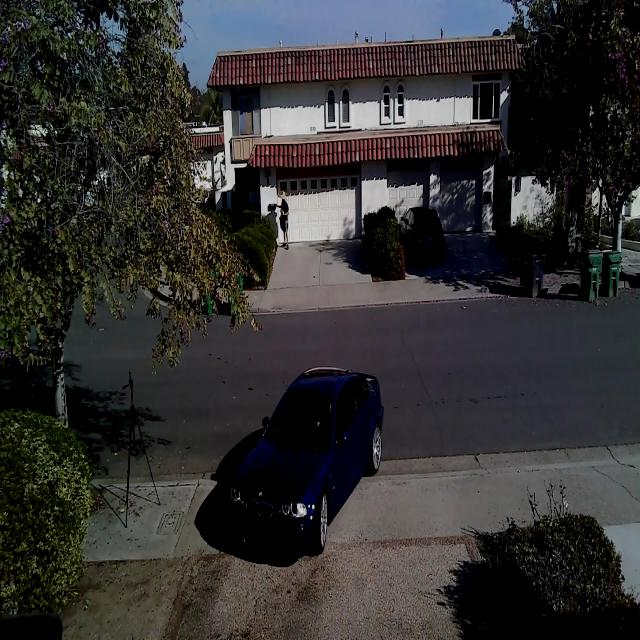Carbeetle: (218, 361, 385, 586)
Civilian: (399, 205, 445, 263)
